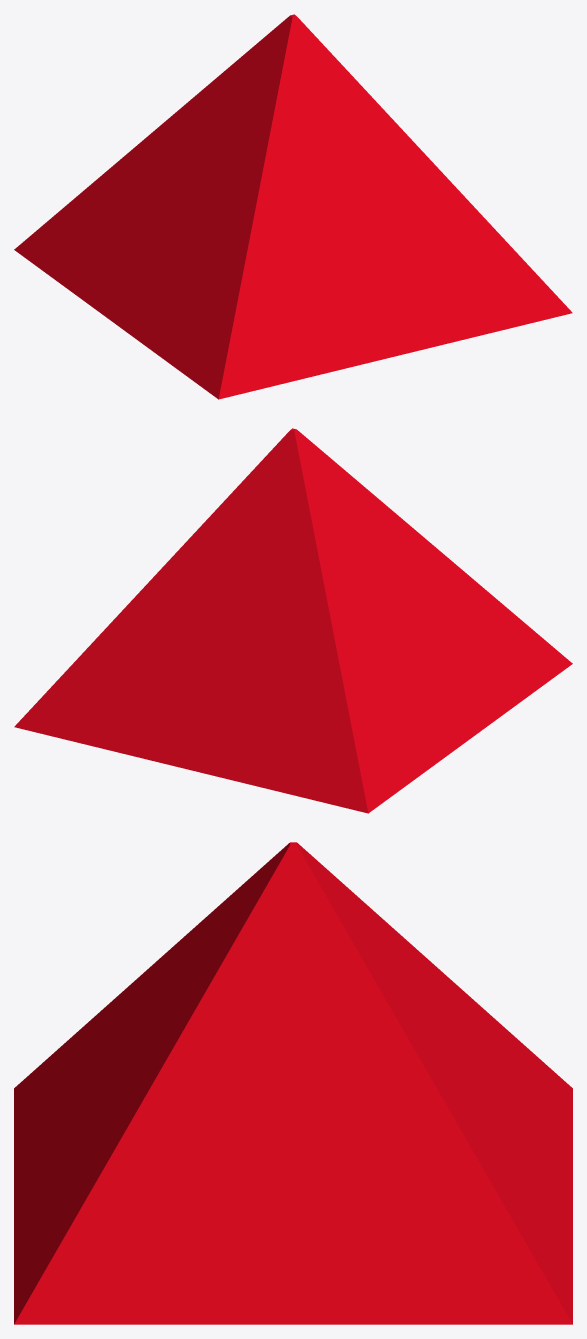
Rendered from Spike.fbx.
3 views of the same model, one above another, from view 1: azimuth 30°, elevation 25°; view 2: azimuth 150°, elevation 25°; view 3: azimuth 270°, elevation 25° (orthographic). The views are drawn at different scales.
Parts seen in each view (by area): view 1: Куб; view 2: Куб; view 3: Куб.
Boxes of the visible parts, x1,y1,x2,y2 form: Куб: (14,14,572,399); Куб: (14,428,572,813); Куб: (14,842,572,1324).
Size of the model in its own units: 200 by 143 by 200.
